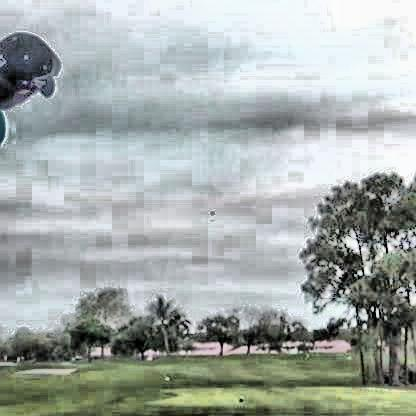golfball: (207, 206, 211, 212)
